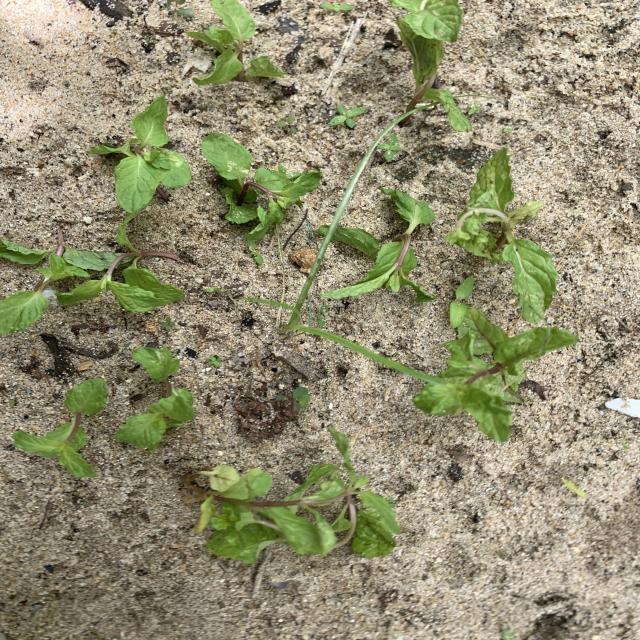crop: (193, 427, 399, 563), (414, 299, 578, 442), (0, 214, 183, 333), (447, 147, 557, 323), (205, 132, 322, 256), (321, 189, 435, 302), (88, 94, 191, 217), (390, 0, 471, 131), (13, 378, 106, 476), (187, 0, 284, 84), (116, 347, 195, 450)
weed: (244, 111, 440, 385), (330, 104, 367, 127), (284, 387, 311, 413), (379, 134, 401, 163), (166, 1, 195, 18), (563, 479, 586, 499), (275, 115, 296, 135), (320, 2, 354, 12), (467, 102, 482, 117), (206, 355, 222, 368), (161, 317, 175, 331), (204, 287, 221, 293)
